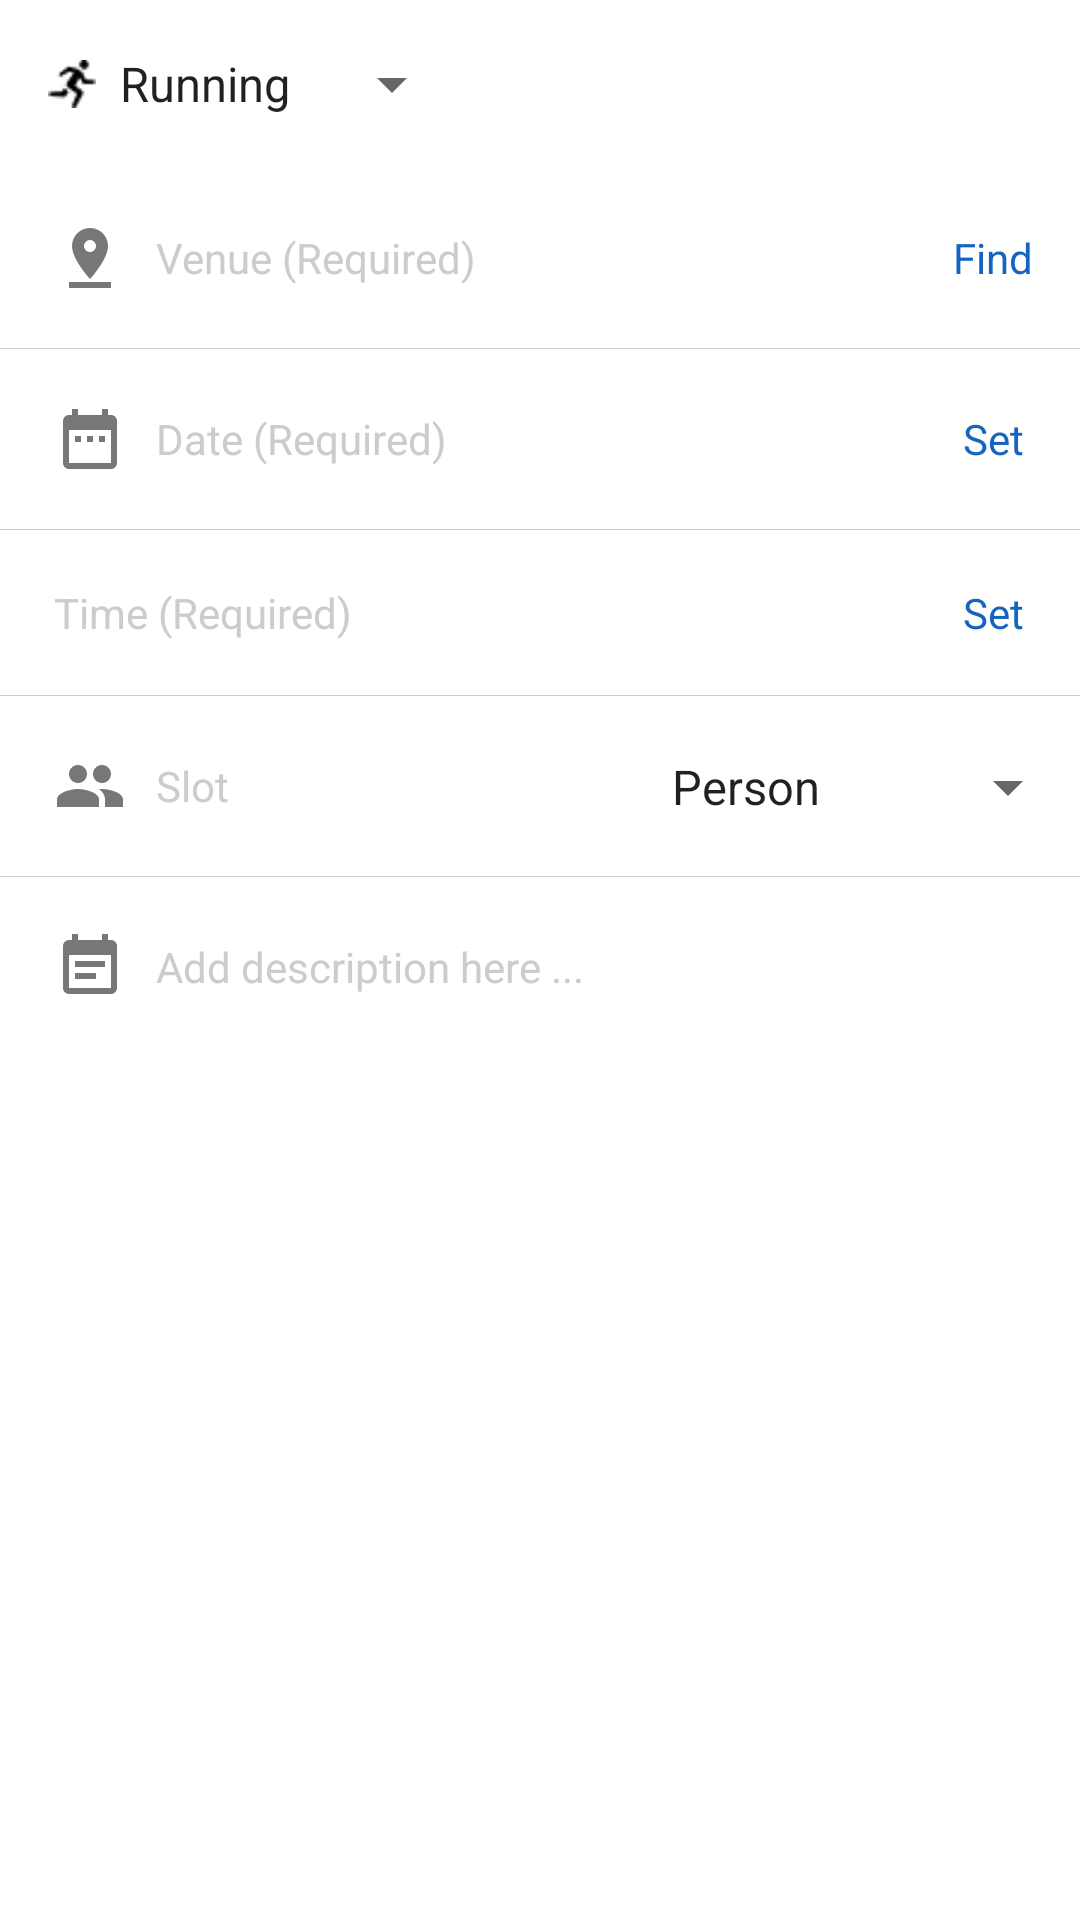

Icons on this 1080x1920 Android screen, each with the point to tap as [x,y]:
Sport: [72,84]
